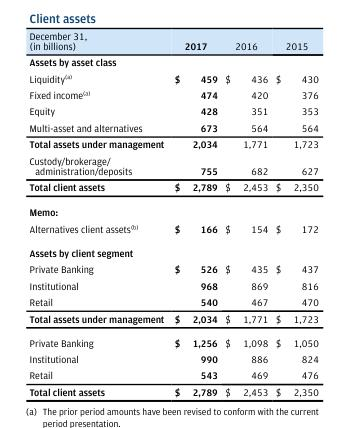table: (28, 29, 317, 397)
table column: (28, 29, 168, 397), (168, 29, 220, 397), (220, 29, 271, 397), (271, 29, 317, 397)
table column header: (28, 29, 317, 53)
table projected row header: (28, 199, 317, 220), (28, 240, 317, 260), (28, 53, 317, 69)
table row: (28, 151, 317, 178), (28, 29, 317, 53), (28, 178, 317, 199), (28, 199, 317, 220), (28, 329, 317, 350), (28, 220, 317, 240), (28, 240, 317, 260), (28, 309, 317, 329), (28, 69, 317, 86), (28, 102, 317, 119), (28, 276, 317, 293), (28, 53, 317, 69), (28, 86, 317, 102), (28, 119, 317, 135), (28, 135, 317, 151), (28, 260, 317, 276), (28, 293, 317, 309), (28, 350, 317, 366), (28, 366, 317, 382), (28, 382, 317, 397)
